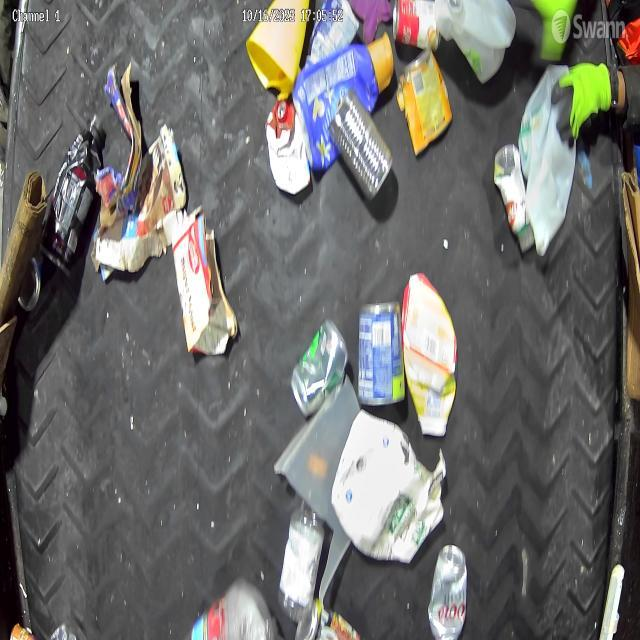can: (328, 85, 393, 206), (288, 315, 346, 415), (432, 545, 466, 640)
milk_jug: (514, 62, 570, 248)
non_white_jug: (294, 28, 393, 116)
plastic_bottle: (280, 493, 320, 618)
